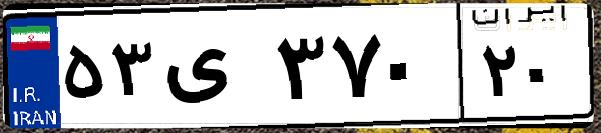0: (385, 28, 445, 110), (525, 38, 570, 115)
2: (475, 38, 525, 113)
3: (270, 28, 330, 110), (110, 28, 158, 98)
5: (57, 26, 110, 100)
7: (330, 28, 385, 110)
ی: (158, 20, 270, 120)
